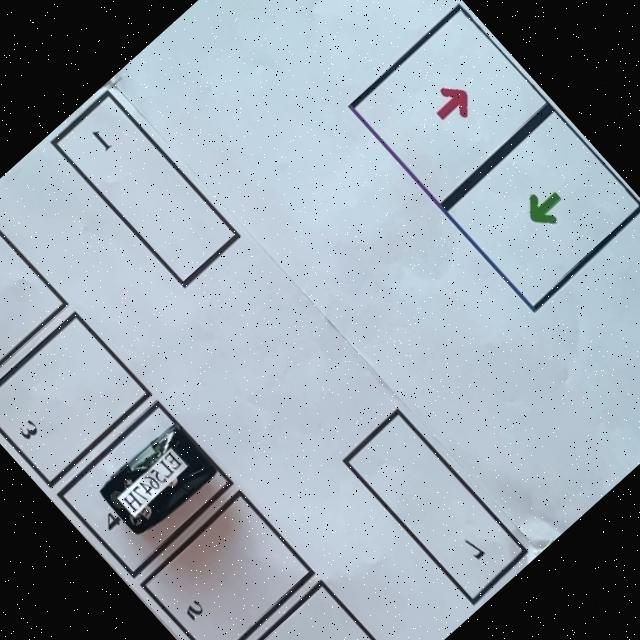car: (90, 413, 228, 548)
